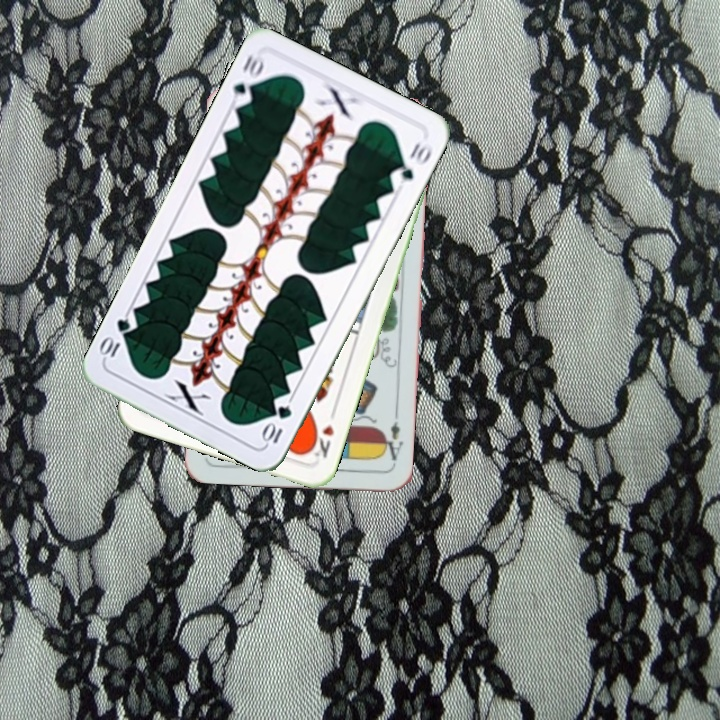EA: (378, 409, 406, 468)
G10: (227, 50, 268, 109), (259, 401, 295, 447)
HK: (305, 421, 337, 461)
